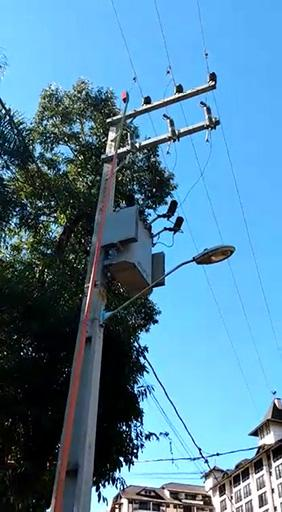Detector_Tensao_Contato: (119, 89, 132, 109)
Vara_Manobra: (50, 103, 129, 512)
